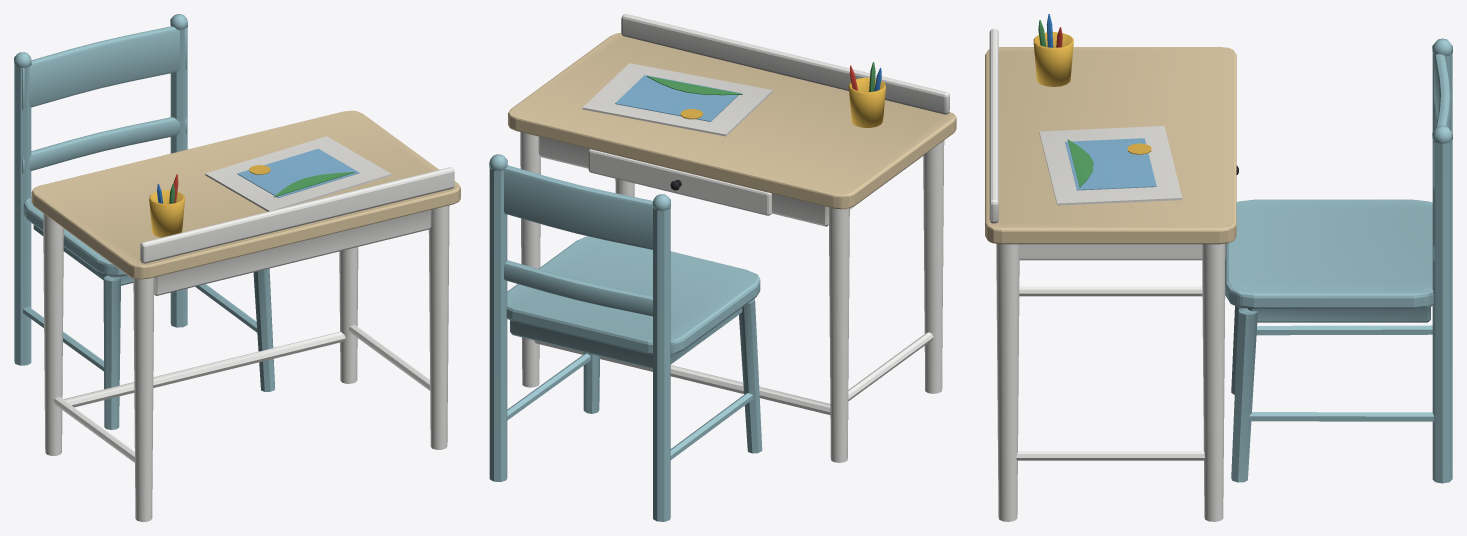
Rendered from kidsDesk.glb.
3 renders of one model, left to right at view 1: azimuth 30°, elevation 25°; view 2: azimuth 150°, elevation 25°; view 3: azimuth 270°, elevation 25°, orthographic. The views are drawn at different scales.
Parts seen in each view (by area): view 1: body; view 2: body, drawer; view 3: body.
Part boxes in pixels (left/top/right/bottom): body: left=14, top=14, right=460, bottom=521; body: left=489, top=14, right=956, bottom=521; drawer: left=588, top=149, right=771, bottom=215; body: left=985, top=14, right=1452, bottom=521.
Size of the model in its own units: 0.76 by 0.6911 by 0.8181.
